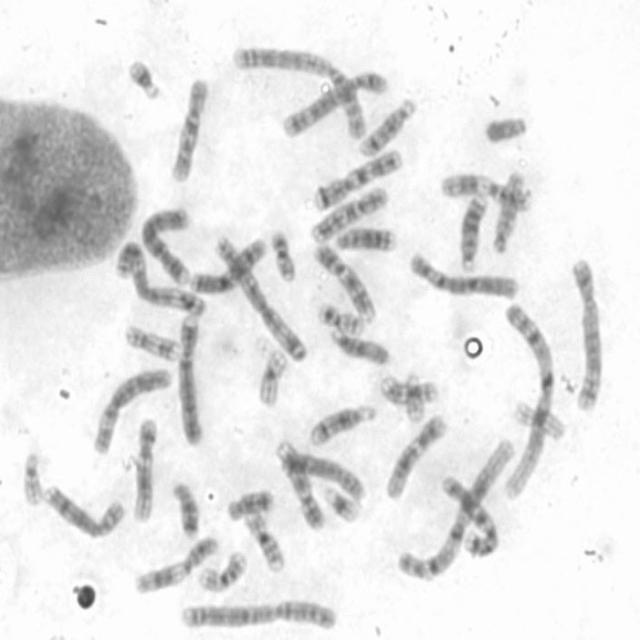A1: (393, 432, 515, 584), (498, 297, 556, 503)
A2: (227, 41, 372, 142), (176, 596, 339, 636)
A3: (212, 231, 308, 363), (112, 237, 209, 318)
B4: (138, 201, 194, 285), (174, 311, 207, 445)
B5: (279, 68, 391, 138), (568, 254, 606, 413)
C10: (306, 182, 389, 246), (166, 70, 212, 184)
C11: (129, 532, 221, 596), (436, 167, 534, 213)
C12: (382, 411, 448, 502), (129, 413, 160, 524)
C6: (90, 363, 174, 456), (404, 249, 522, 302)
C7: (308, 146, 402, 213), (436, 472, 501, 560)
C8: (272, 440, 368, 503), (39, 479, 128, 541)
C9: (310, 240, 377, 323), (275, 436, 327, 532)
D13: (456, 187, 489, 273), (332, 223, 399, 254)
D14: (357, 95, 418, 158), (305, 401, 378, 448)
D15: (489, 168, 525, 255), (327, 326, 390, 366)
E16: (241, 506, 288, 574), (194, 548, 248, 593)
E17: (120, 319, 180, 364), (377, 373, 441, 406)
E18: (169, 477, 202, 540), (223, 486, 274, 522)
F19: (510, 396, 566, 442), (255, 346, 289, 408)
F20: (314, 299, 365, 337), (266, 225, 298, 284)
G21: (318, 480, 362, 525), (124, 54, 164, 102)
G22: (18, 446, 45, 508), (402, 368, 426, 423)
X: (188, 232, 268, 296)
Y: (481, 112, 530, 144)
